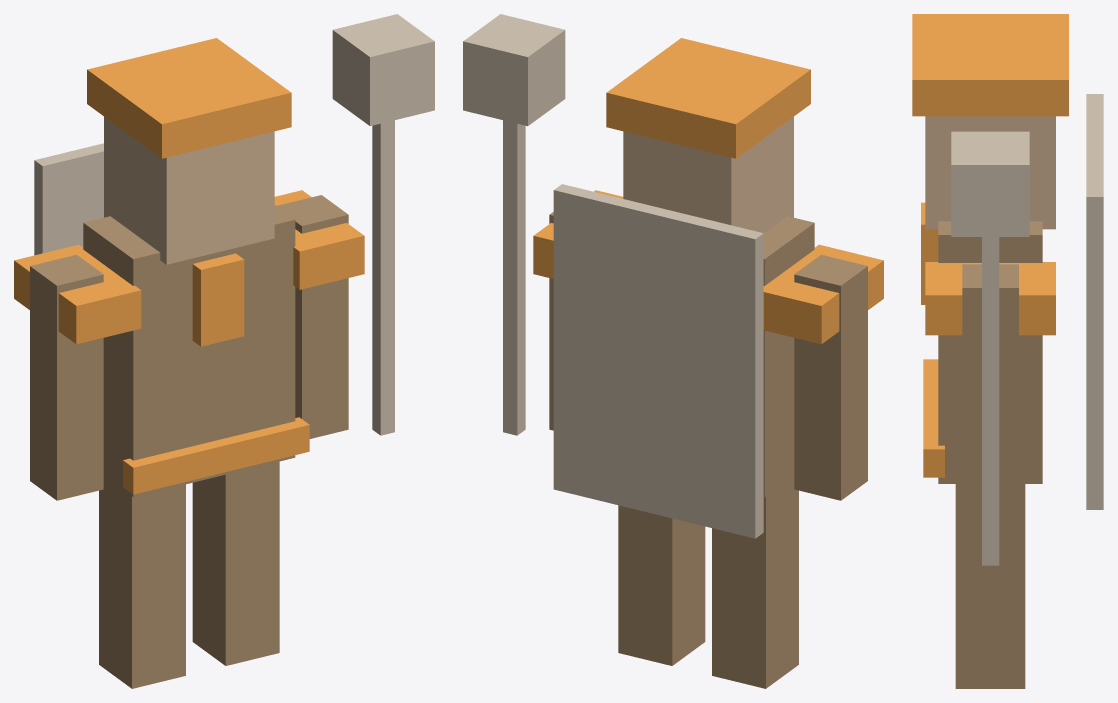
The model's file is 04_ossa_cragwarden_tactician_of_syllable.glb.
3 views of the same model, side by side, from view 1: azimuth 30°, elevation 25°; view 2: azimuth 150°, elevation 25°; view 3: azimuth 270°, elevation 25° (orthographic). The views are drawn at different scales.
Parts seen in each view (by area): view 1: Ossa Cragwarden, Tactician of Syllable; view 2: Ossa Cragwarden, Tactician of Syllable; view 3: Ossa Cragwarden, Tactician of Syllable.
Part boxes in pixels (<box>): Ossa Cragwarden, Tactician of Syllable: <box>14,14,434,688</box>; Ossa Cragwarden, Tactician of Syllable: <box>463,14,883,688</box>; Ossa Cragwarden, Tactician of Syllable: <box>912,14,1103,688</box>.
Bounding box in the file's own units: 0.9906 × 1.47 × 0.4211.
